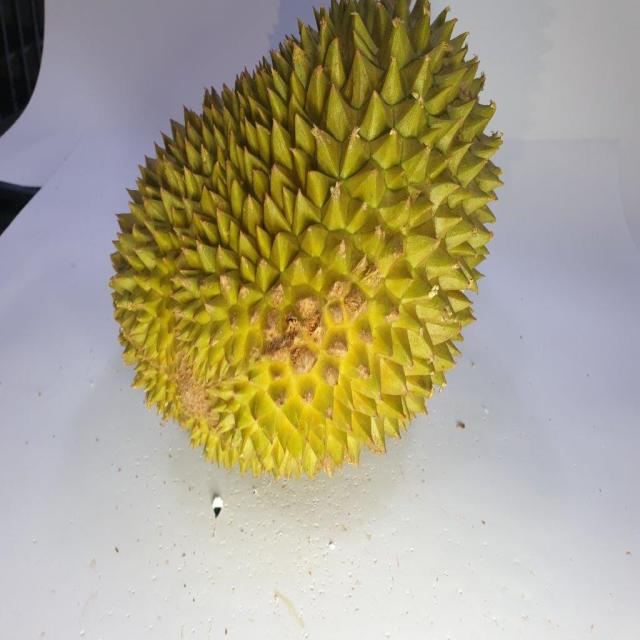defective: (97, 0, 503, 480)
